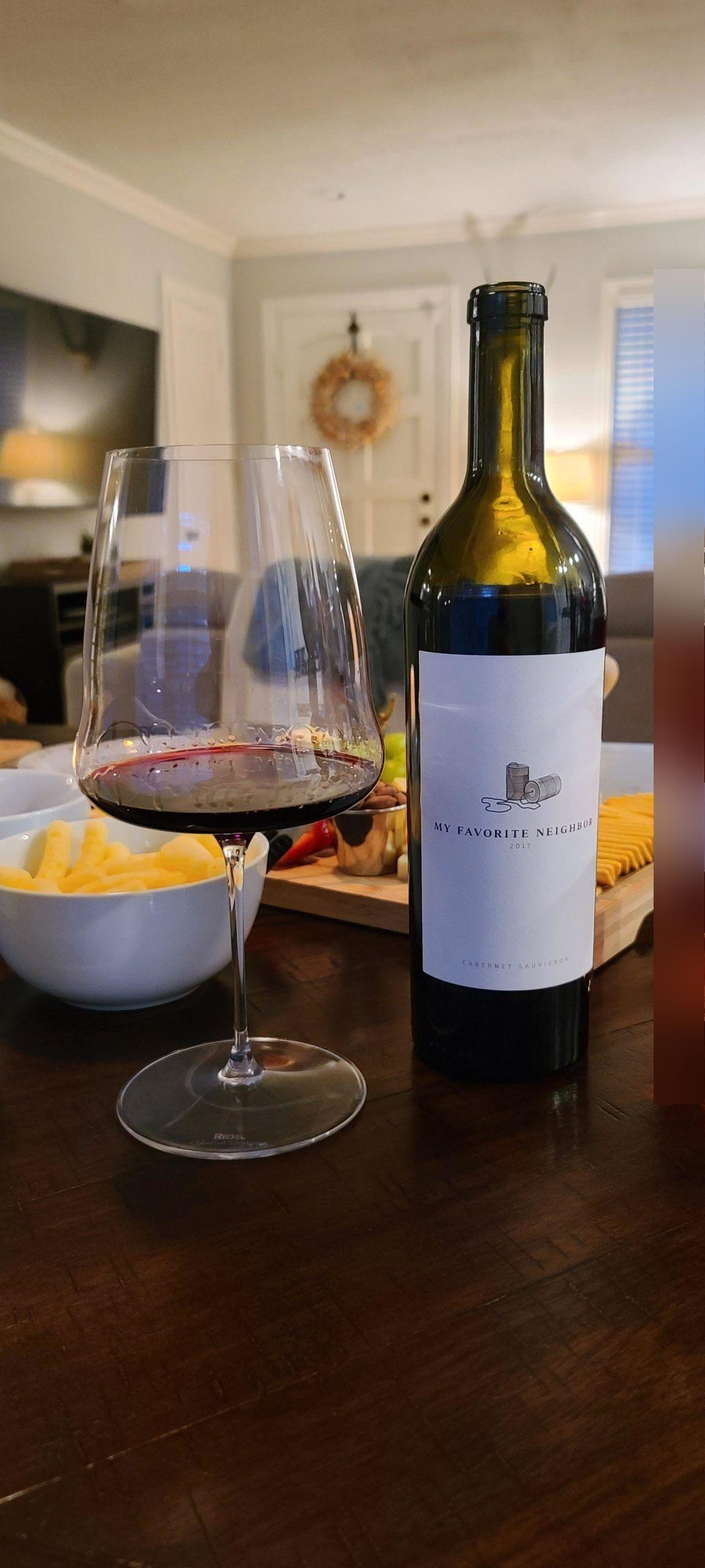bottle-glass: (400, 273, 613, 1087)
glass-wine: (69, 439, 392, 1170)
